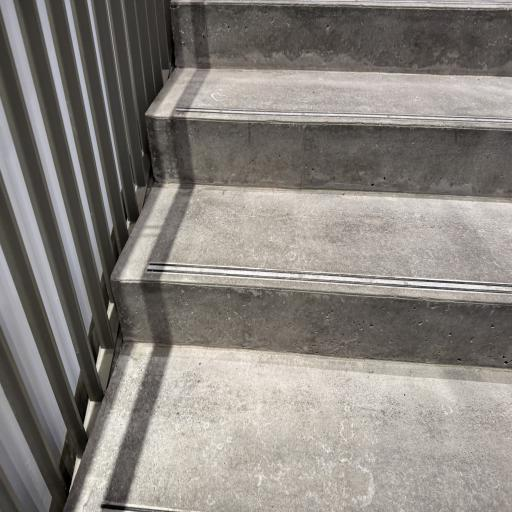Stairs: (65, 0, 512, 512), (66, 343, 512, 512), (111, 184, 512, 368), (146, 15, 512, 197), (171, 0, 512, 76)
